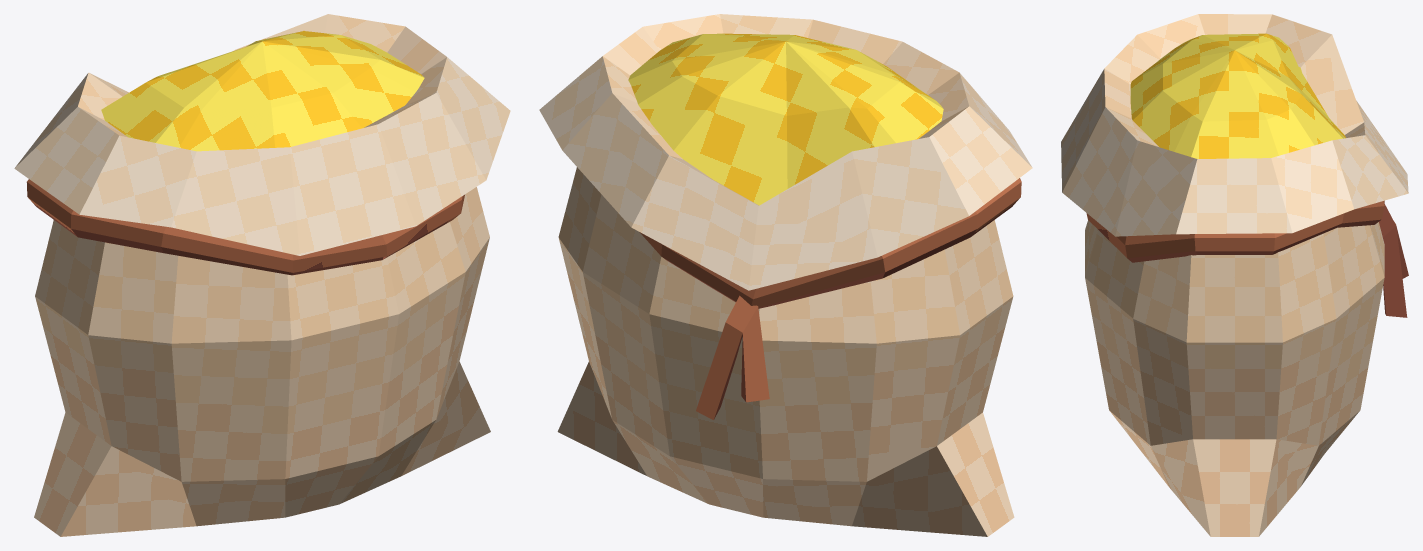
The model's file is wheat.fbx.
The picture shows the model from 3 angles, left to right: view 1: azimuth 30°, elevation 25°; view 2: azimuth 150°, elevation 25°; view 3: azimuth 270°, elevation 25°; orthographic projection. The views are drawn at different scales.
Visible parts, largest first — view 1: wheat; view 2: wheat; view 3: wheat.
Part boxes in pixels (<box>): wheat: <box>14,14,510,536</box>; wheat: <box>539,14,1032,536</box>; wheat: <box>1061,14,1408,536</box>.
Bounding box in the file's own units: 93.97 × 96.88 × 72.57.
Materials: 1 (1 with a texture image).
